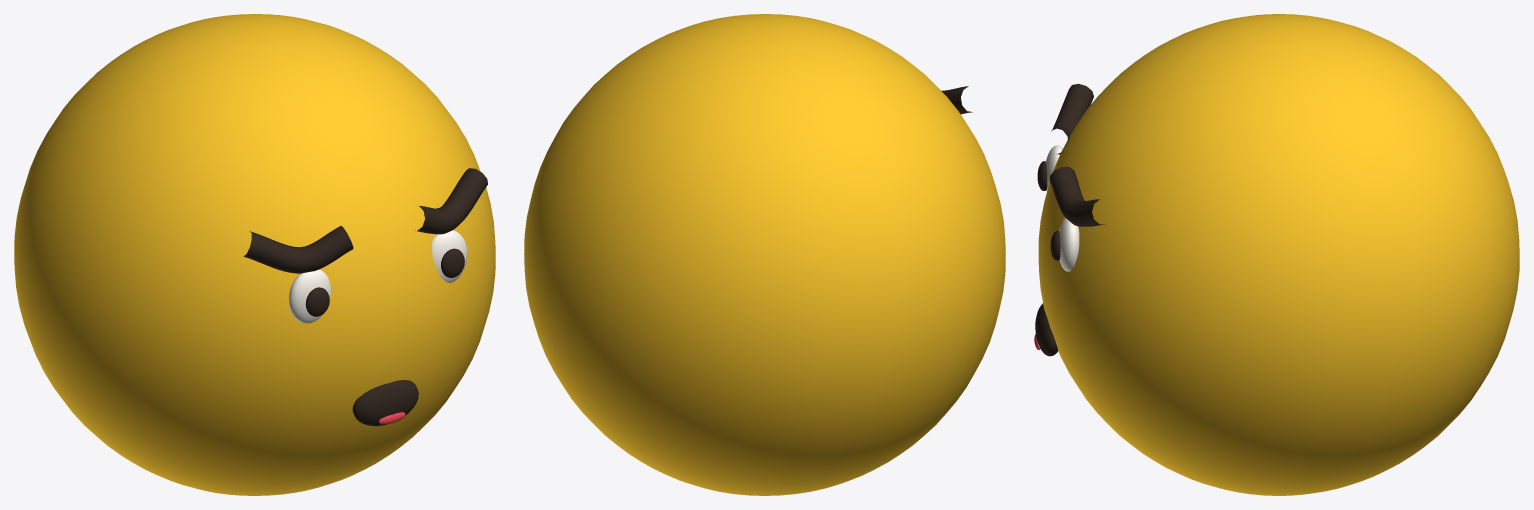
The model's file is angry.glb.
3 renders of one model, left to right at view 1: azimuth 30°, elevation 25°; view 2: azimuth 150°, elevation 25°; view 3: azimuth 270°, elevation 25°, orthographic.
Bounding box in the file's own units: 2 × 2 × 2.01.
